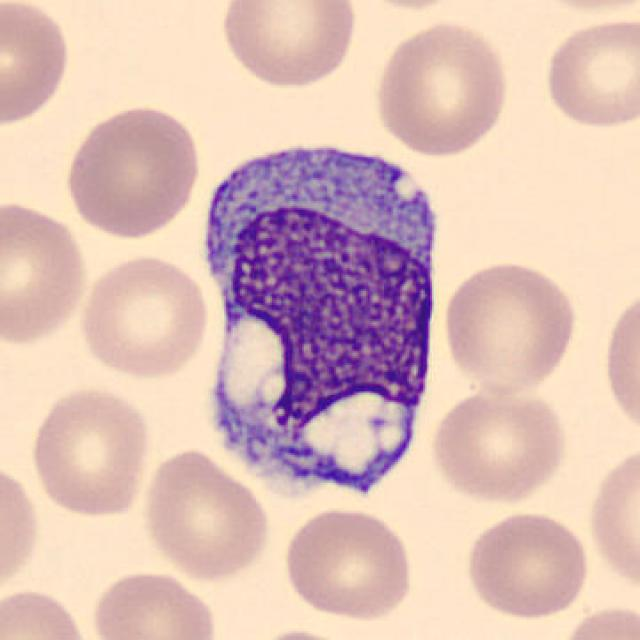Monocyte: (192, 118, 452, 517)
RBC: (60, 100, 204, 240), (370, 18, 512, 158), (439, 257, 581, 397), (138, 446, 274, 582), (426, 384, 570, 508), (75, 252, 213, 381), (27, 383, 154, 520), (279, 504, 418, 624), (460, 508, 594, 622), (0, 196, 91, 349), (215, 0, 361, 92), (538, 14, 640, 132), (87, 566, 222, 640), (0, 0, 73, 129), (583, 439, 638, 596), (599, 280, 640, 444), (0, 456, 43, 600), (0, 583, 94, 640), (555, 601, 638, 640), (521, 0, 640, 14), (246, 626, 364, 640), (337, 0, 474, 12)
